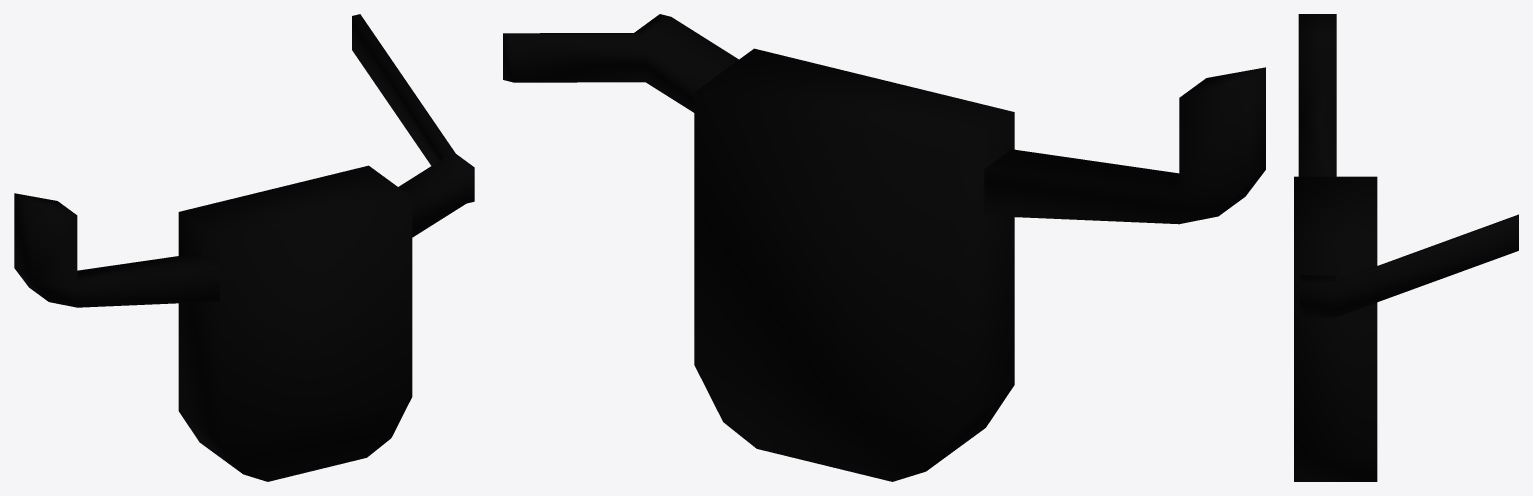
The model's file is TapaOlho.fbx.
3 renders of one model, left to right at view 1: azimuth 30°, elevation 25°; view 2: azimuth 150°, elevation 25°; view 3: azimuth 270°, elevation 25°, orthographic. The views are drawn at different scales.
Visible parts, largest first — view 1: TapaOlho; view 2: TapaOlho; view 3: TapaOlho.
Boxes of the visible parts, x1,y1,x2,y2 form: TapaOlho: (14, 14, 474, 481); TapaOlho: (503, 14, 1265, 481); TapaOlho: (1294, 14, 1518, 481).
Size of the model in its own units: 133 by 94.8 by 61.23.
